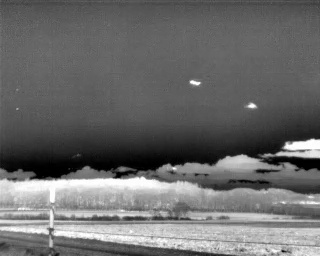DRONE: (186, 76, 204, 90)
